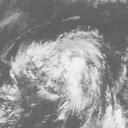cyclone: (39, 40, 105, 102)
